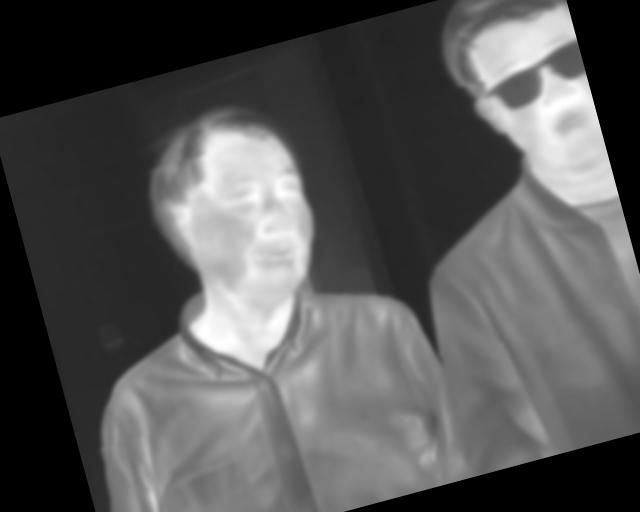face: (131, 88, 331, 321), (431, 1, 609, 197)
